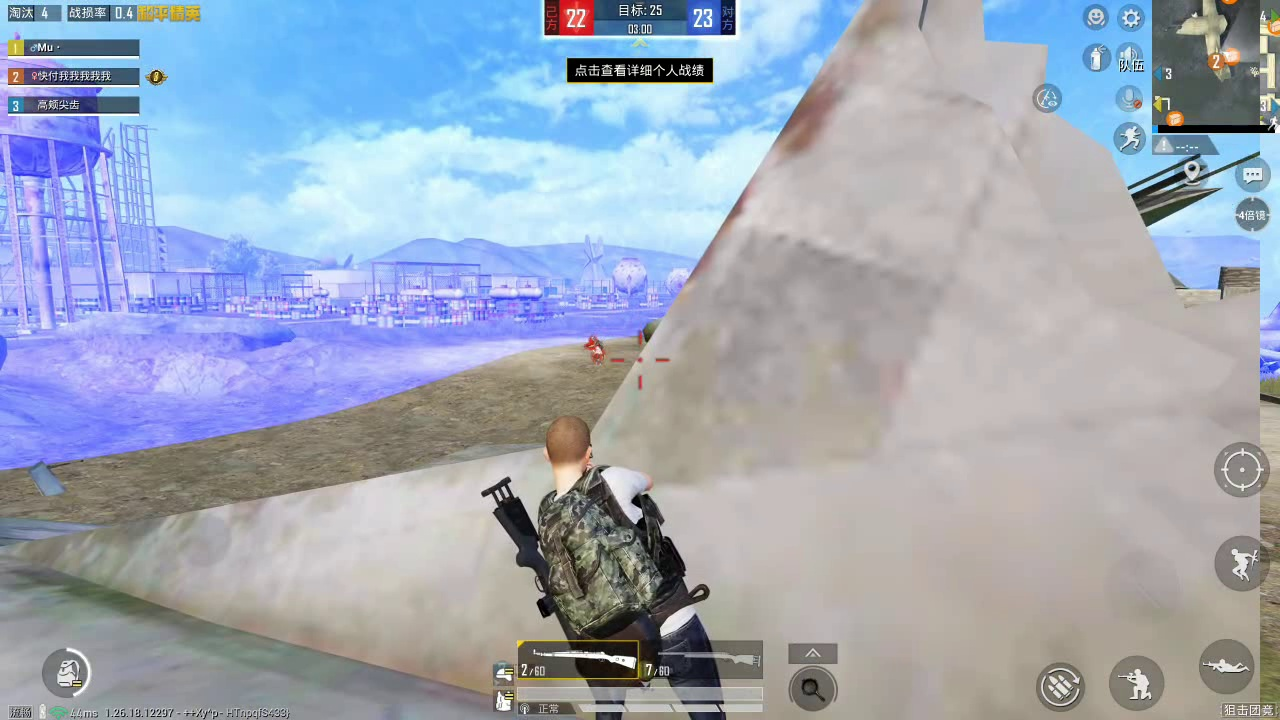enemy: (585, 335, 603, 367)
